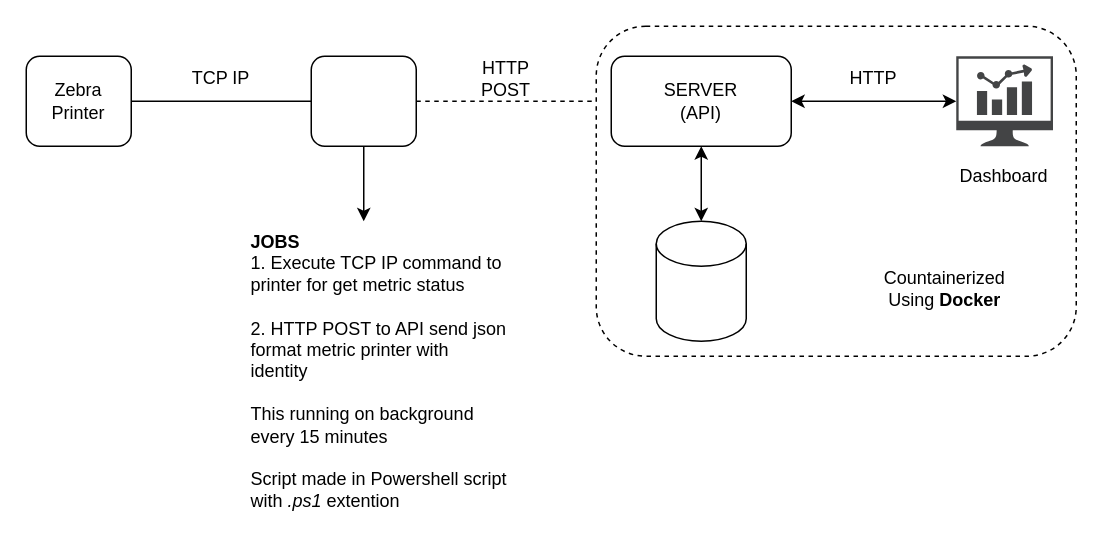
Some shapes in this 1103 by 548 pixel diagram are drawn without their labels. The centre of each missing label's shape, as x and y in pixels:
"MES STATION" belongs at [363,100].
"MySQL DB" belongs at [700,280].
